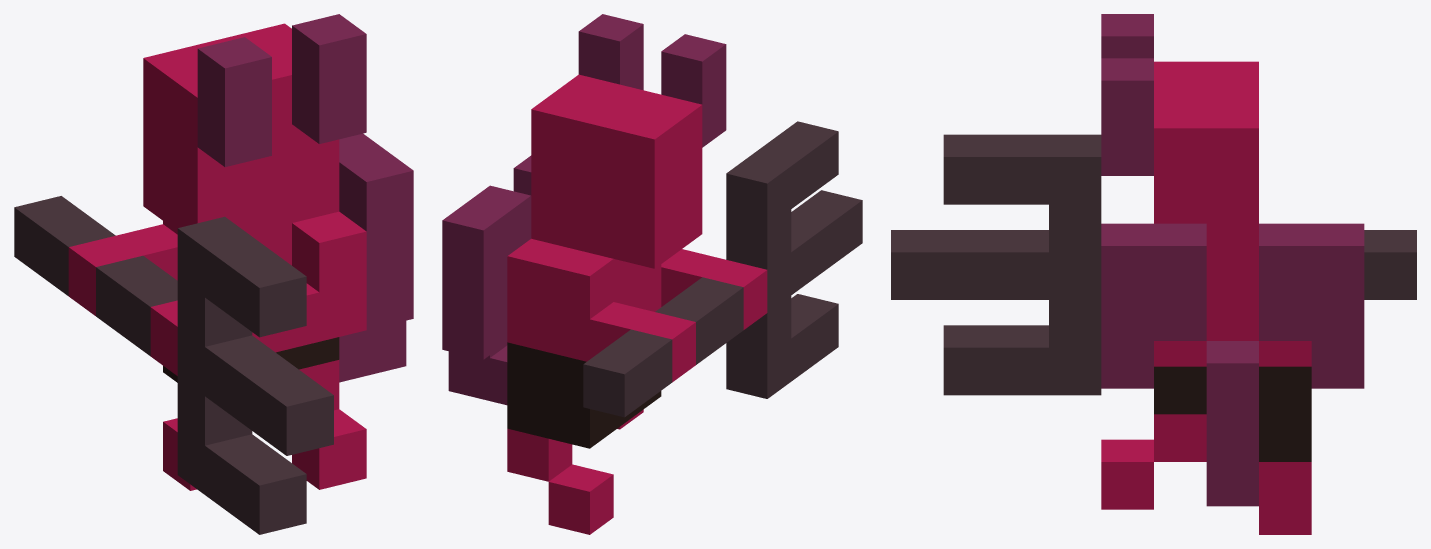
File: imp_action_0.obj
The picture shows the model from 3 angles, left to right: view 1: azimuth 30°, elevation 25°; view 2: azimuth 150°, elevation 25°; view 3: azimuth 270°, elevation 25°; orthographic projection. The views are drawn at different scales.
Bounding box in the file's own units: 0.6 × 1 × 1.
Materials: 1 (1 with a texture image).
